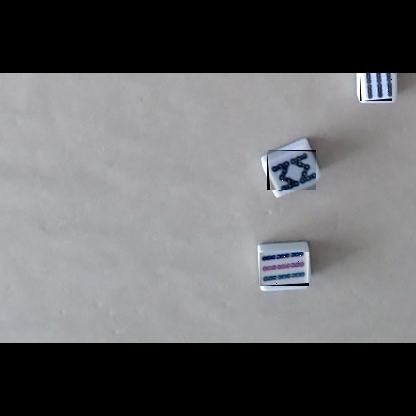7s: (360, 73, 392, 101)
8s: (267, 150, 316, 190)
9s: (259, 252, 309, 286)
